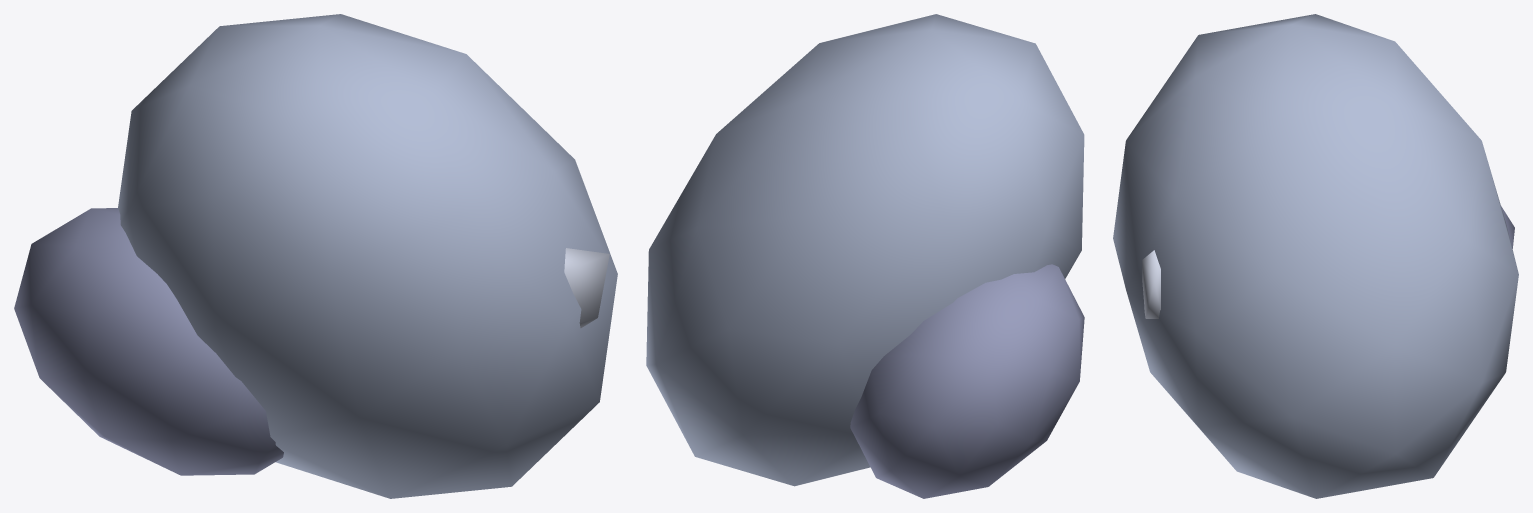
Rendered from rock5.glb.
3 renders of one model, left to right at view 1: azimuth 30°, elevation 25°; view 2: azimuth 150°, elevation 25°; view 3: azimuth 270°, elevation 25°, orthographic. The views are drawn at different scales.
Visible parts, largest first — view 1: RoundedRock_0.005, RoundedRock_1.005, AquaFacet.005; view 2: RoundedRock_0.005, RoundedRock_1.005; view 3: RoundedRock_0.005, AquaFacet.005.
Boxes of the visible parts, x1,y1,x2,y2 form: RoundedRock_0.005: [118, 14, 617, 498]; RoundedRock_1.005: [14, 208, 283, 475]; AquaFacet.005: [564, 248, 609, 328]; RoundedRock_0.005: [646, 14, 1084, 486]; RoundedRock_1.005: [850, 264, 1084, 498]; RoundedRock_0.005: [1113, 14, 1518, 498]; AquaFacet.005: [1142, 250, 1160, 318].
Size of the model in its own units: 1.67 by 1.64 by 1.46.
